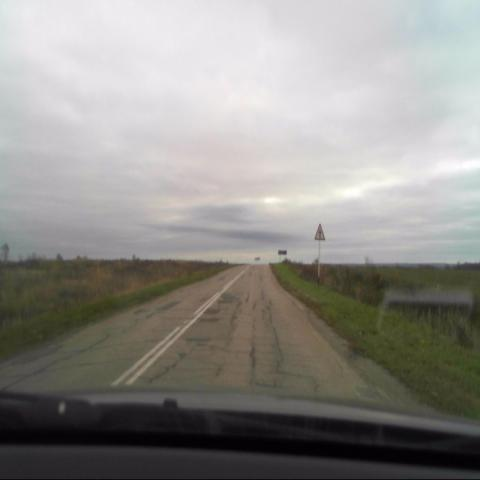2_3: (314, 222, 325, 240)
